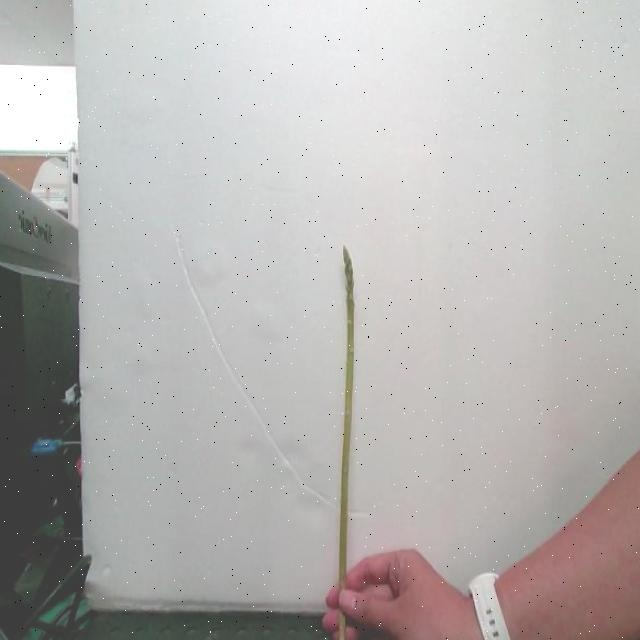aspargus: (338, 250, 355, 587)
